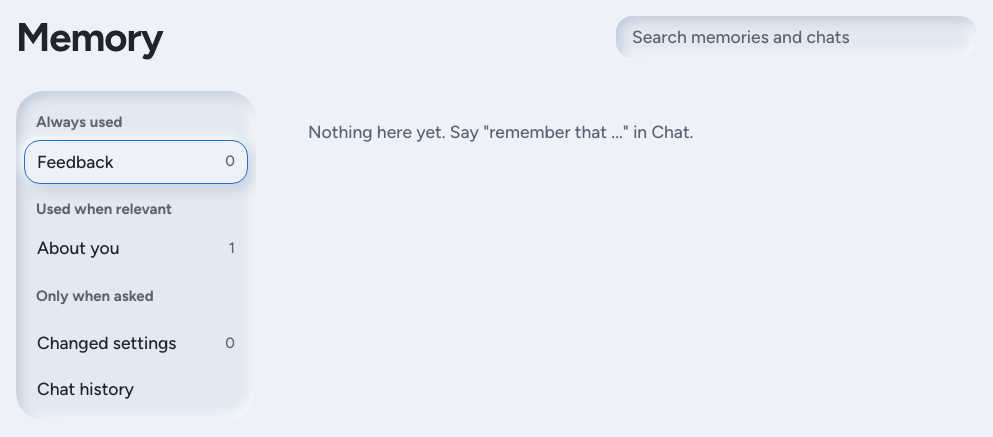
Test case: Memory page: search and chat history › lists conversations as 'Day · n turns · first line' and opens a read-only transcript
Click the button "Chat history": [136, 389] box [24, 367, 248, 412]
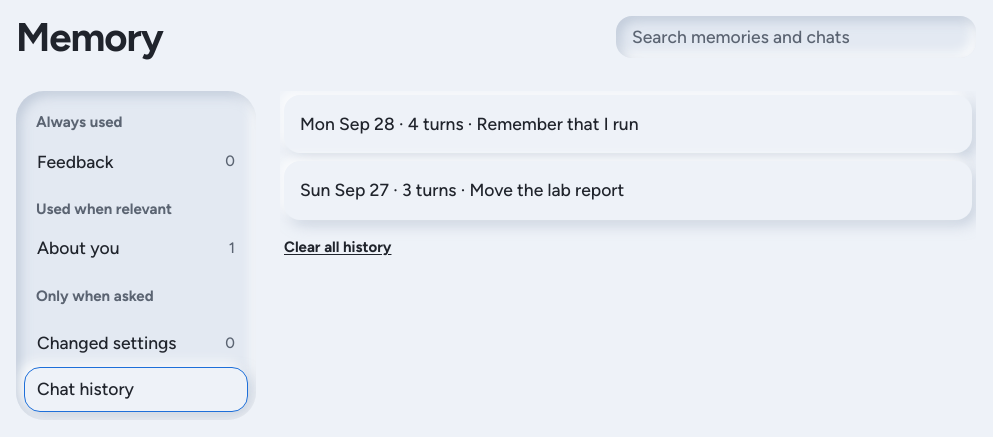
Check: the button "Mon Sep 28 · 4 turns · Remember that I run" is shown
Click the button "Mon Sep 28 · 4 turns · Remember that I run": [628, 124] box [284, 95, 972, 153]
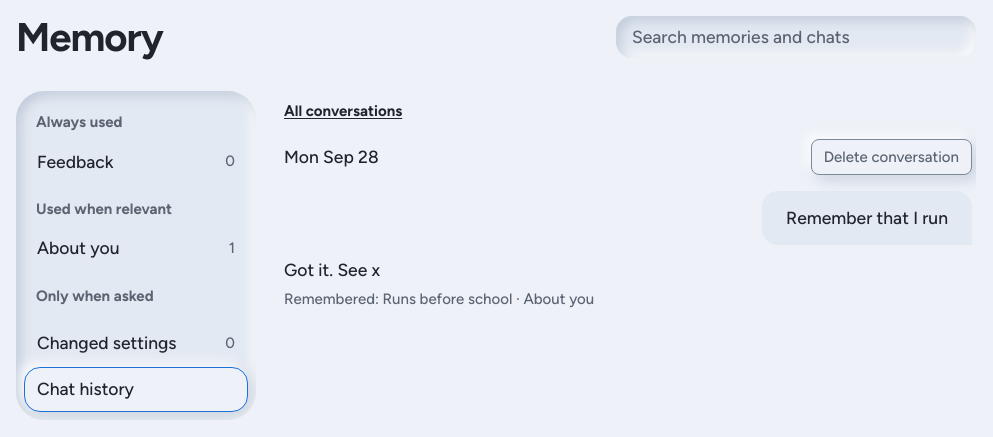
Check: the text "Remember that I run" is shown, box [786, 205, 948, 231]
Check: the text with test id "remembered-receipt" shows "Remembered: Runs before school", box [284, 290, 594, 308]
Check: the button "Mon Sep 28 · 4 turns · Remember that I run" is gone
